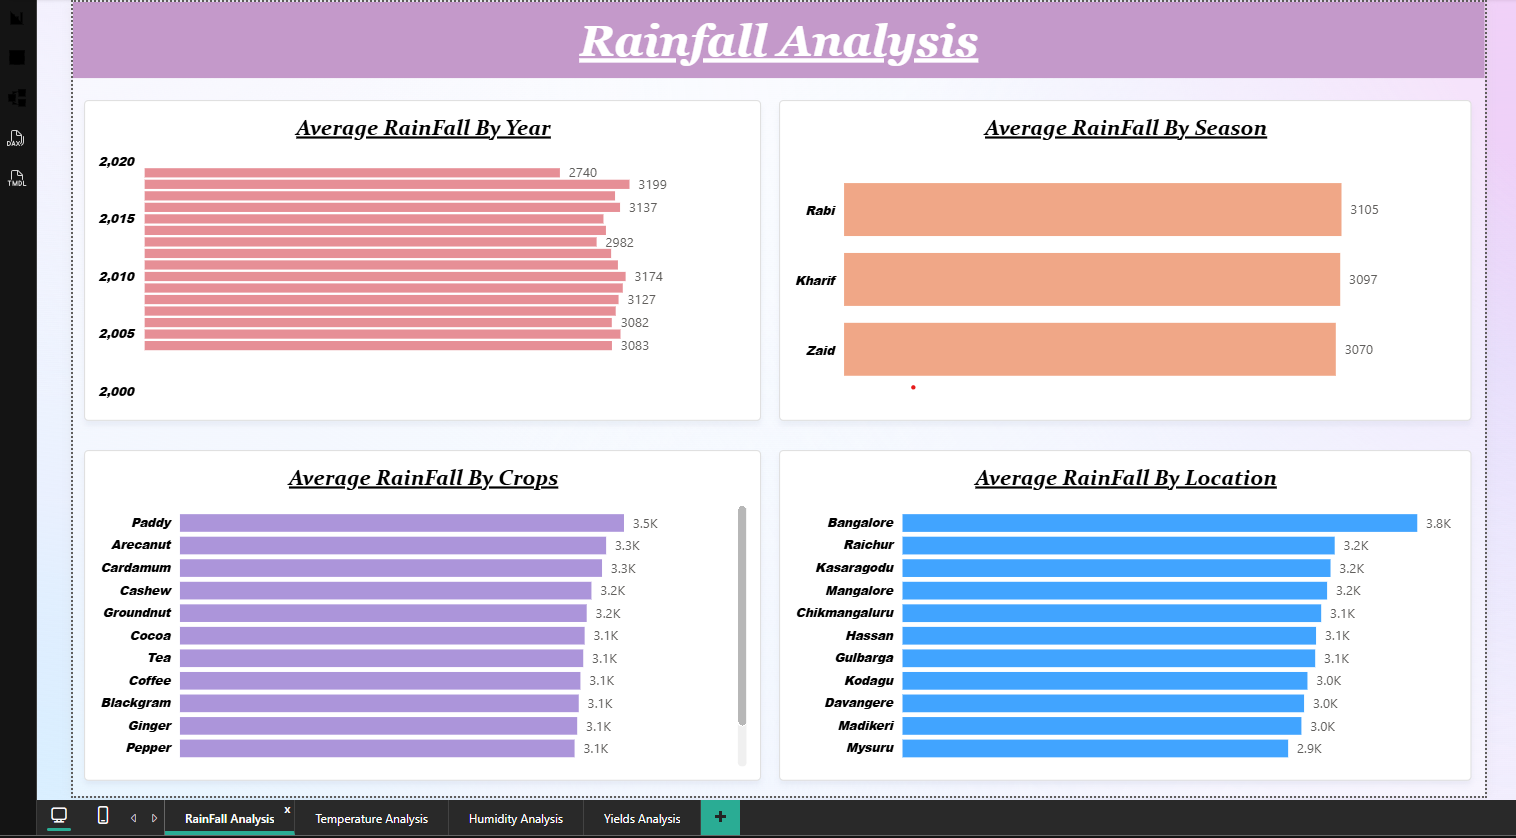

The page's visual inventory and layout, read from the dashboard file:
{"tool":"powerbi","page":{"name":"RainFall Analysis ","canvas":[1280,720],"ordinal":0},"visuals":[{"type":"shape","box":[0,0,1280,69.1],"z":0},{"type":"barChart","title":"Average RainFall By Year","fields":{"Category":["AGRICULTURE.YEAR"],"Y":["Avg(AGRICULTURE.RAINFALL)"]},"box":[10,88.9,613.9,291.1],"z":1000},{"type":"barChart","title":"Average RainFall By Season","fields":{"Category":["AGRICULTURE.SEASON"],"Y":["Avg(AGRICULTURE.RAINFALL)"]},"box":[640.2,88.9,627.5,291.1],"z":2000},{"type":"barChart","title":"Average RainFall By Crops","fields":{"Category":["AGRICULTURE.CROPS"],"Y":["Avg(AGRICULTURE.RAINFALL)"]},"box":[10,406.2,613.9,300.2],"z":3000},{"type":"barChart","title":"Average RainFall By Location","fields":{"Category":["AGRICULTURE.LOCATION"],"Y":["Avg(AGRICULTURE.RAINFALL)"]},"box":[640.2,406.2,627.5,300.2],"z":4000}]}

Visuals, with their boxes on the page's 1280x720 design canvas (x1, y1, x2, y2). These are canvas units, not pixel positions in the 1516x838 screenshot, which may show the page scaled, cropped or inside an application window:
shape: detection(0, 0, 1280, 69)
"Average RainFall By Year" barChart: detection(10, 89, 624, 380)
"Average RainFall By Season" barChart: detection(640, 89, 1268, 380)
"Average RainFall By Crops" barChart: detection(10, 406, 624, 706)
"Average RainFall By Location" barChart: detection(640, 406, 1268, 706)
